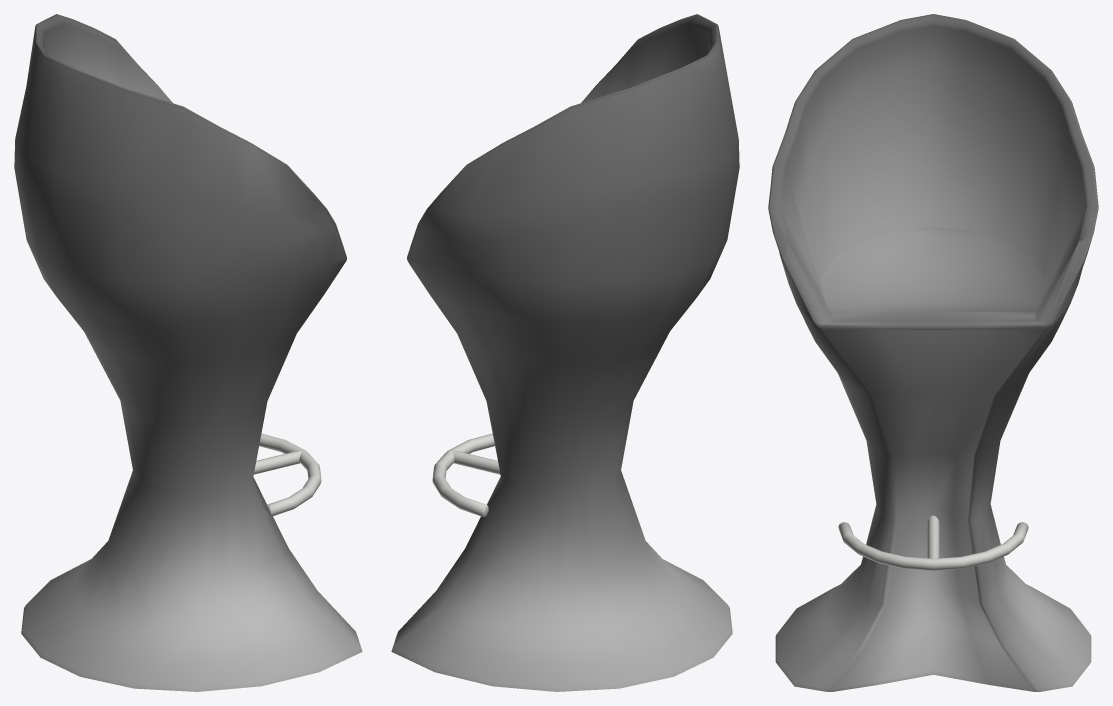
File: LedBarChair03.FBX
3 views of the same model, side by side, from view 1: azimuth 30°, elevation 25°; view 2: azimuth 150°, elevation 25°; view 3: azimuth 270°, elevation 25° (orthographic). The views are drawn at different scales.
Visible parts, largest first — view 1: LedBarChair03; view 2: LedBarChair03; view 3: LedBarChair03.
Boxes of the visible parts, <box> form: LedBarChair03: <box>14,14,362,691</box>; LedBarChair03: <box>391,14,739,691</box>; LedBarChair03: <box>768,14,1098,691</box>.
Size of the model in its own units: 23.9 by 48.6 by 25.93.
